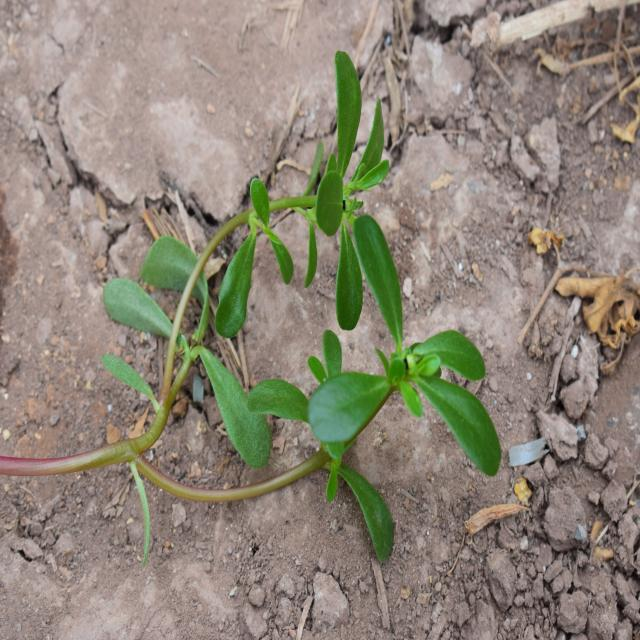purslane: (109, 80, 507, 527)
